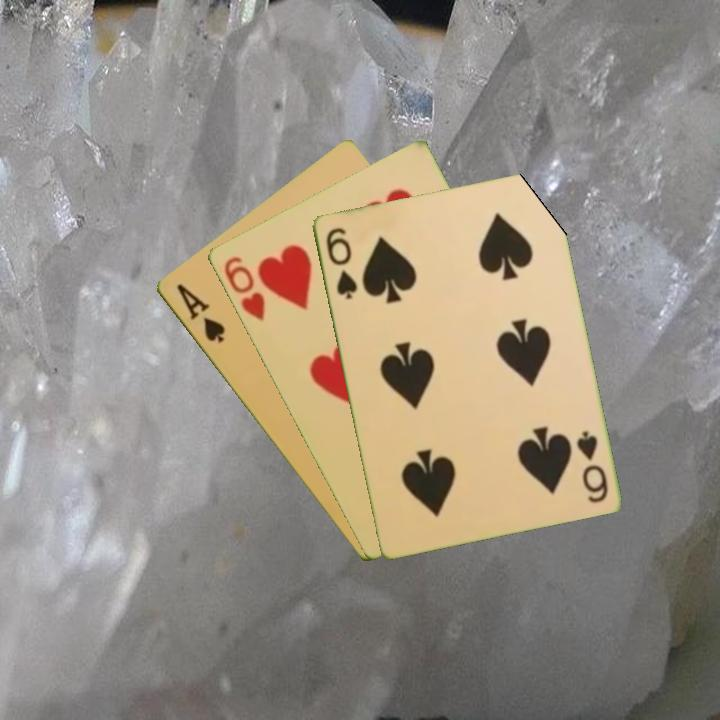6h: (219, 252, 268, 324)
6s: (572, 426, 611, 506), (322, 224, 360, 302)
As: (172, 280, 228, 346)
